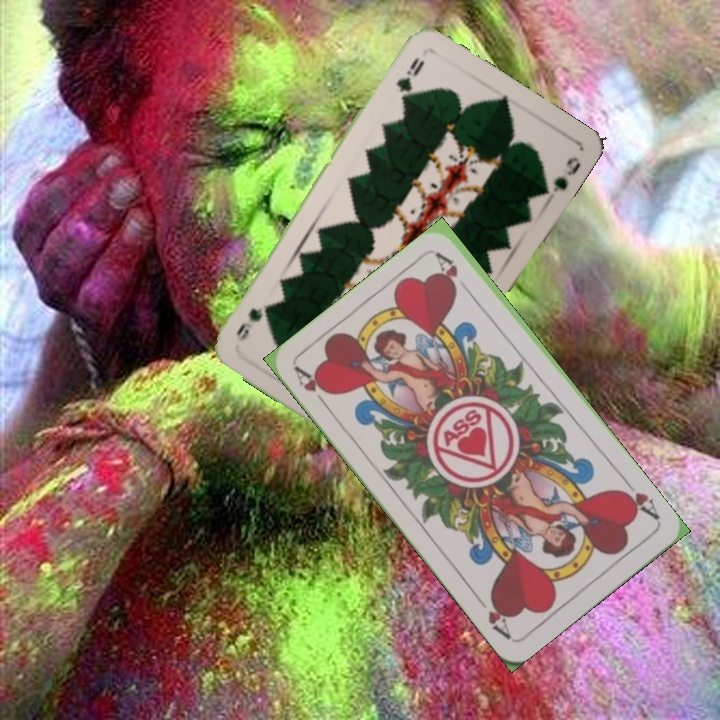G9: (392, 53, 427, 102)
HA: (614, 474, 663, 524), (290, 363, 335, 414)
